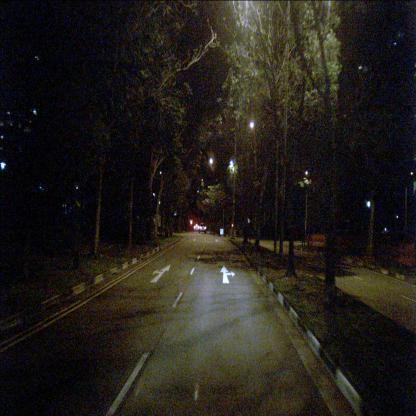vehicle-car: (198, 224, 206, 233), (193, 224, 200, 232)
